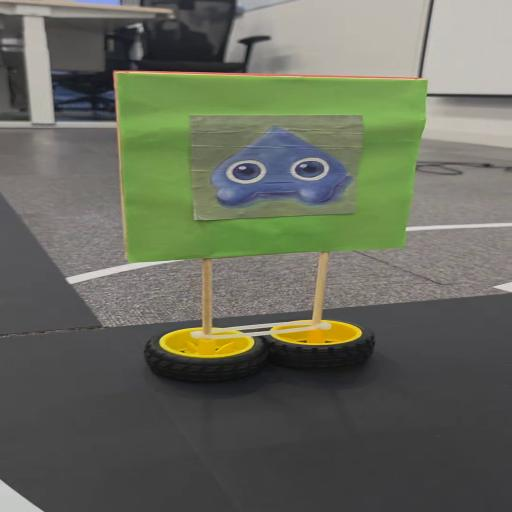Sign_B: (101, 63, 438, 386)
